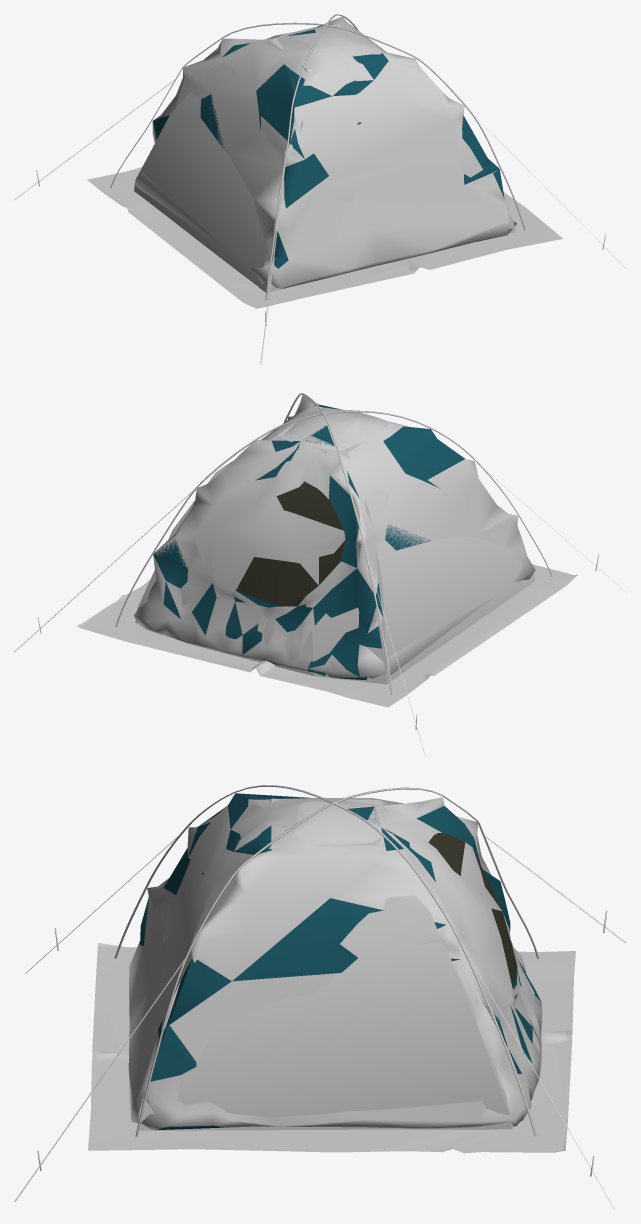
The model's file is ut_tent_a.DAE.
3 renders of one model, top to bottom at view 1: azimuth 30°, elevation 25°; view 2: azimuth 150°, elevation 25°; view 3: azimuth 270°, elevation 25°, orthographic. The views are drawn at different scales.
Parts seen in each view (by area): view 1: ut_tent_a180, Colmesh-1, ut_tent_a25; view 2: ut_tent_a180, ut_tent_a25, Colmesh-1; view 3: ut_tent_a180, Colmesh-1, ut_tent_a25.
Boxes of the visible parts, x1,y1,x2,y2 form: ut_tent_a180: (14, 14, 626, 364); Colmesh-1: (134, 24, 515, 292); ut_tent_a25: (153, 24, 504, 268); ut_tent_a180: (14, 393, 626, 756); ut_tent_a25: (153, 404, 520, 680); Colmesh-1: (135, 406, 534, 684); ut_tent_a180: (14, 785, 626, 1209); Colmesh-1: (138, 798, 534, 1130); ut_tent_a25: (140, 793, 541, 1130).
Bounding box in the file's own units: 317 × 307 × 161.
